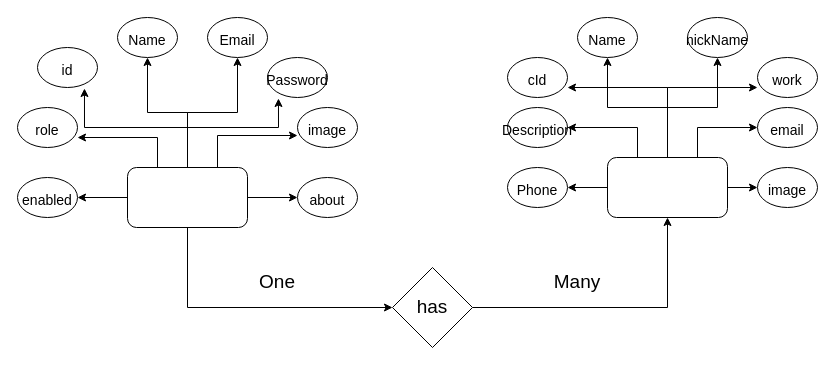
This 835x365 diagram has some shape labels left out. Here are the shapes that lost their labels. From the top down, the centre of each, then its label:
At (x=187, y=197): "USER".
At (x=667, y=187): "CONTACT".
